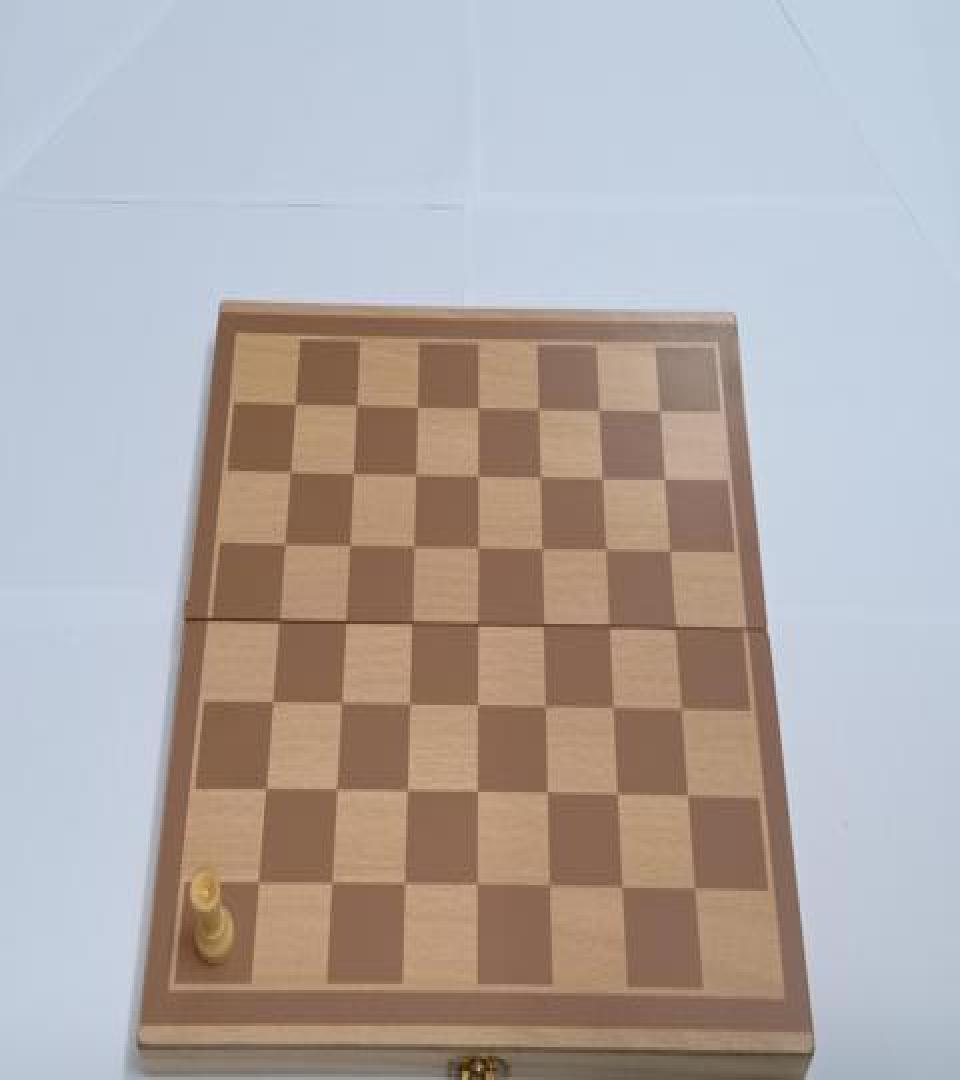xcorner: (287, 394, 305, 422), (348, 394, 366, 422), (469, 694, 487, 722), (537, 694, 555, 722), (594, 466, 612, 494), (656, 466, 674, 494), (282, 462, 300, 489), (276, 534, 294, 561), (270, 610, 288, 637), (257, 778, 275, 805), (337, 612, 355, 639), (332, 693, 350, 720), (328, 778, 346, 805), (409, 396, 427, 423), (403, 612, 421, 639), (401, 693, 419, 720), (398, 780, 416, 807), (396, 873, 414, 900), (469, 396, 487, 423), (469, 465, 487, 492), (469, 537, 487, 564), (469, 873, 487, 900), (530, 397, 548, 424), (531, 465, 549, 492), (533, 537, 551, 564), (541, 874, 559, 901), (590, 397, 608, 424), (597, 538, 615, 565), (601, 615, 619, 642), (605, 696, 623, 723), (610, 783, 628, 810), (614, 874, 632, 901), (651, 399, 669, 426), (661, 538, 679, 565), (667, 615, 685, 642), (673, 696, 691, 723), (680, 783, 698, 810), (687, 876, 705, 903), (264, 692, 282, 718), (250, 872, 268, 898), (344, 464, 362, 490), (341, 536, 359, 562), (323, 872, 341, 898), (407, 464, 425, 490), (405, 536, 423, 562), (469, 614, 487, 640), (469, 782, 487, 808), (535, 614, 553, 640), (539, 782, 557, 808)
